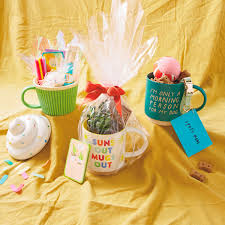mug: (139, 63, 211, 146), (75, 111, 151, 182), (20, 50, 83, 129)
